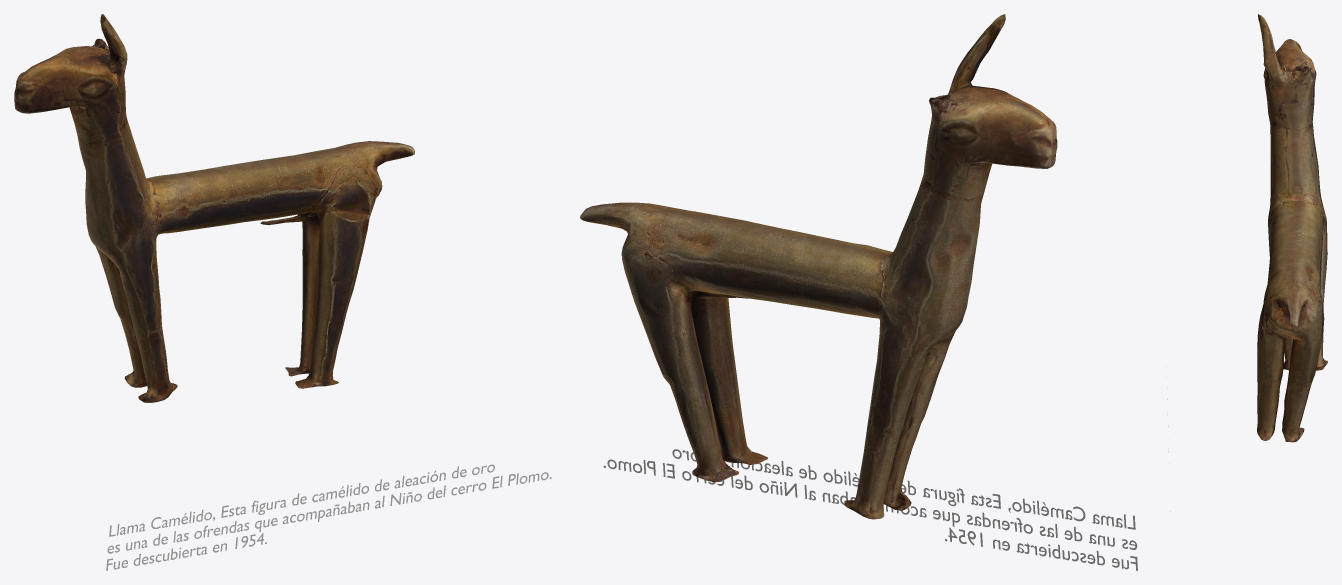
The model's file is Llama_Camelido.obj.
3 renders of one model, left to right at view 1: azimuth 30°, elevation 25°; view 2: azimuth 150°, elevation 25°; view 3: azimuth 270°, elevation 25°, orthographic. The views are drawn at different scales.
Parts seen in each view (by area): view 1: LLama_camelido, Texto2_Llama_Camedlidot.001; view 2: LLama_camelido, Texto2_Llama_Camedlidot.001; view 3: LLama_camelido.
Part boxes in pixels (x1=…): LLama_camelido: x1=14, y1=14, x2=414, y2=402; Texto2_Llama_Camedlidot.001: x1=106, y1=464, x2=551, y2=570; LLama_camelido: x1=580, y1=14, x2=1057, y2=519; Texto2_Llama_Camedlidot.001: x1=603, y1=449, x2=1137, y2=570; LLama_camelido: x1=1257, y1=14, x2=1327, y2=442.
Bounding box in the file's own units: 70.78 × 76.64 × 27.64.
Materials: 2 (1 with a texture image).
